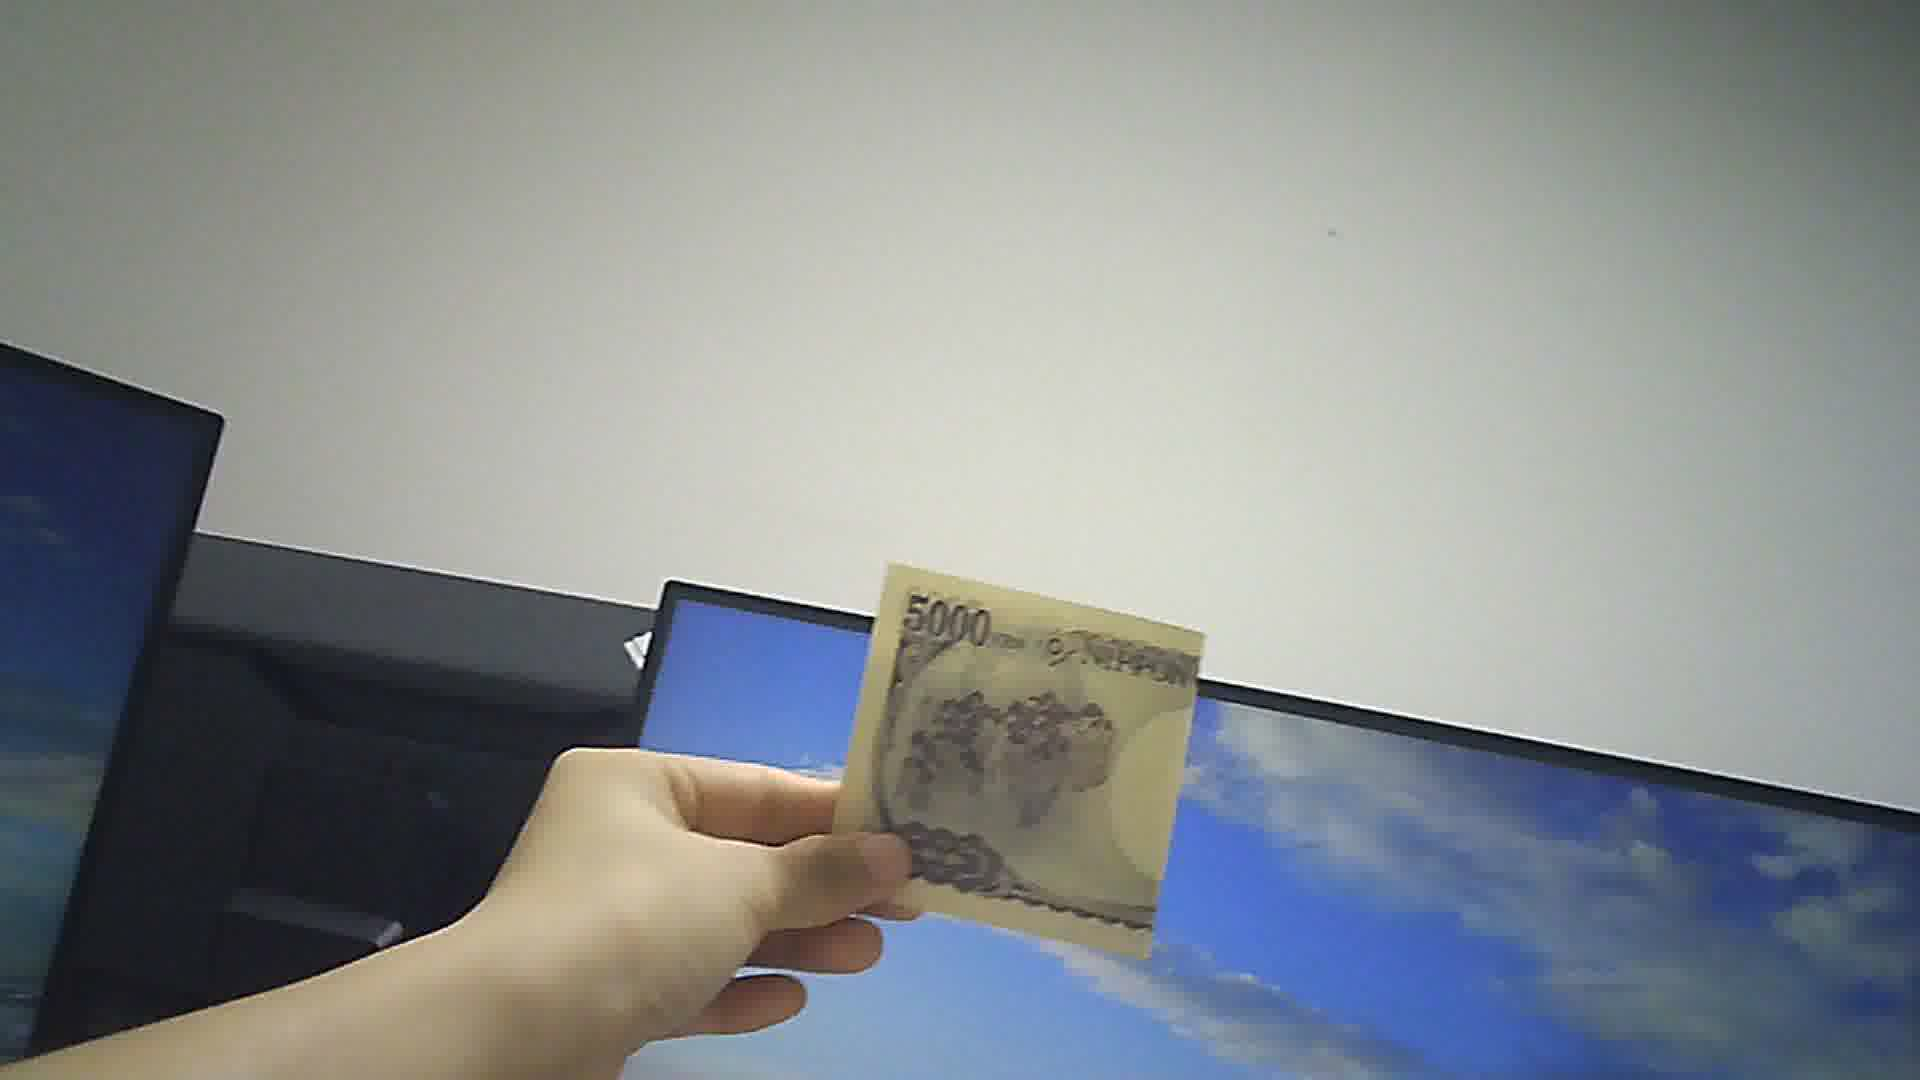5,000 Yen: (802, 553, 1201, 964)
